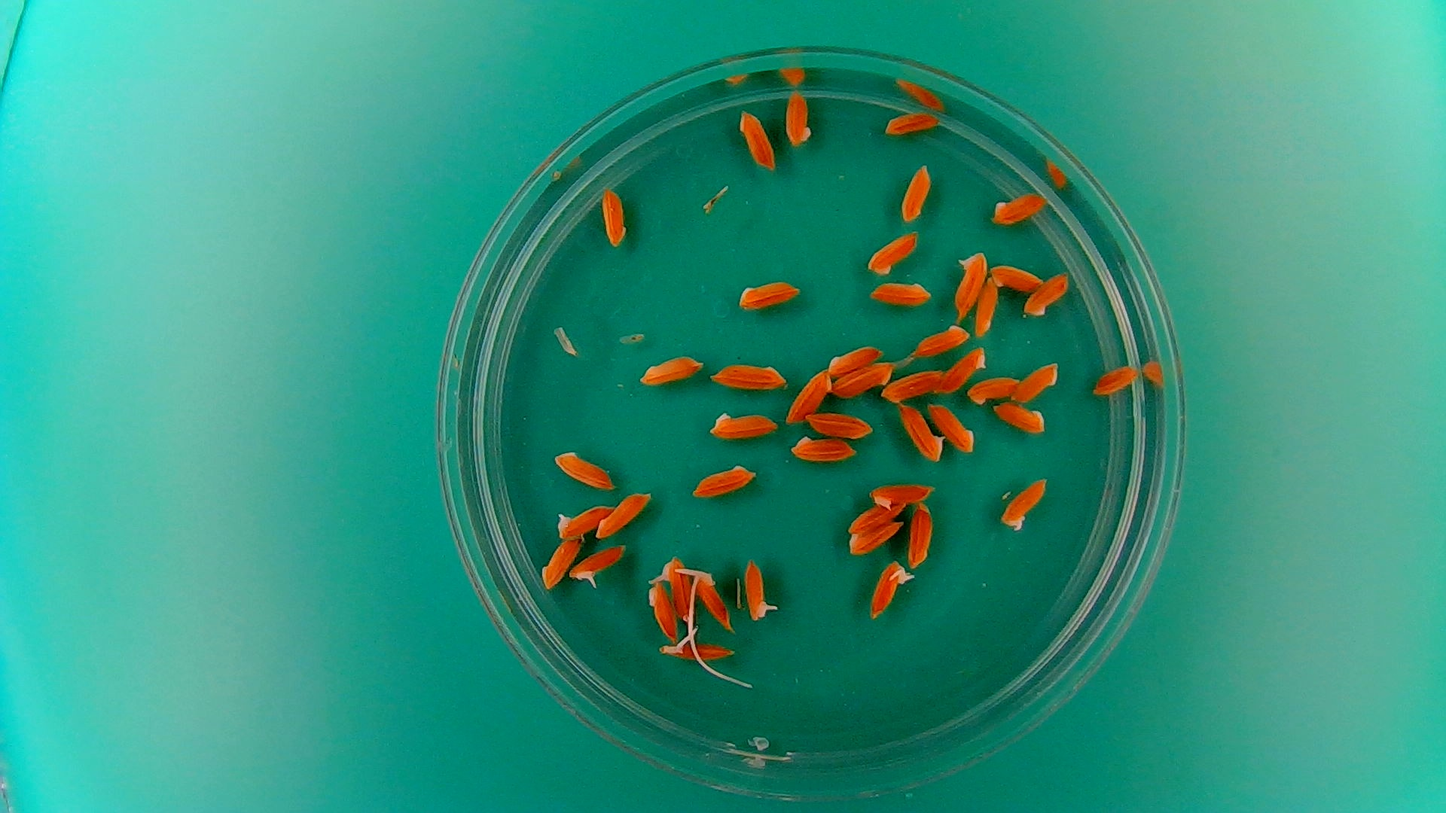no: (731, 101, 776, 173), (594, 487, 652, 541), (551, 447, 616, 492), (784, 367, 834, 425), (688, 461, 759, 501), (926, 400, 978, 454), (709, 358, 789, 391), (830, 360, 895, 400), (936, 345, 988, 395), (865, 228, 920, 275), (844, 517, 907, 558), (706, 406, 781, 440), (538, 534, 581, 592), (879, 366, 946, 403), (1022, 269, 1071, 319), (734, 276, 802, 312), (637, 352, 705, 388), (803, 408, 875, 440), (844, 498, 905, 535), (1010, 358, 1060, 403), (787, 432, 857, 464), (904, 498, 935, 569), (911, 321, 970, 358), (898, 160, 932, 224), (645, 576, 678, 641), (827, 340, 886, 376), (990, 400, 1048, 436), (990, 190, 1047, 226), (867, 277, 932, 307), (782, 87, 813, 148), (965, 373, 1021, 406), (599, 183, 627, 248), (988, 261, 1045, 292), (1090, 363, 1139, 398), (882, 107, 941, 136), (974, 276, 999, 337)
yes: (684, 560, 732, 631), (997, 473, 1050, 532), (866, 556, 914, 620), (895, 401, 944, 462), (657, 547, 694, 626), (569, 541, 627, 588), (951, 247, 989, 318), (741, 554, 778, 623), (554, 501, 613, 540), (657, 635, 737, 663), (867, 477, 936, 509)
